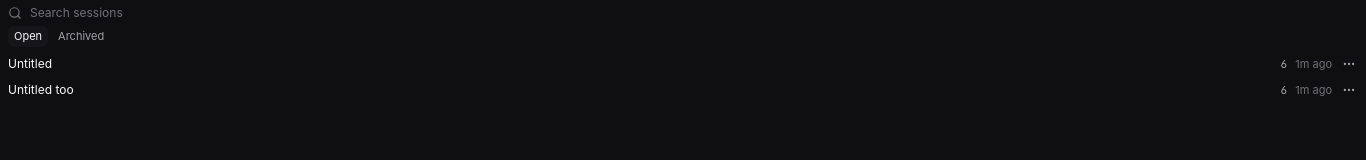
Test: Feature: zoc-agent-chat-rebuild, task 22.5: the Session list › searches message text, not just titles (R15.5)
This screenshot has width=1366, height=160.
Type "token helper" into the field with placeholder "Search sessions".
click(694, 13); type("token helper")  # box x1=30 y1=4 x2=1358 y2=22
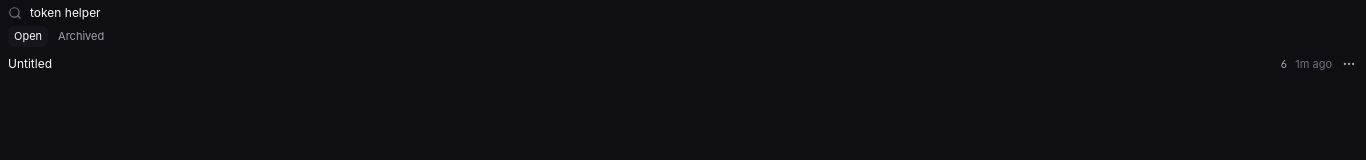
Expected: the list item "Untitled 6 1m ago" is shown, x1=0 y1=50 x2=1365 y2=76
Clearing restores the list rather than emptying it.
Clear the field named "Search sessions" at point(694, 13), box x1=30 y1=4 x2=1358 y2=22
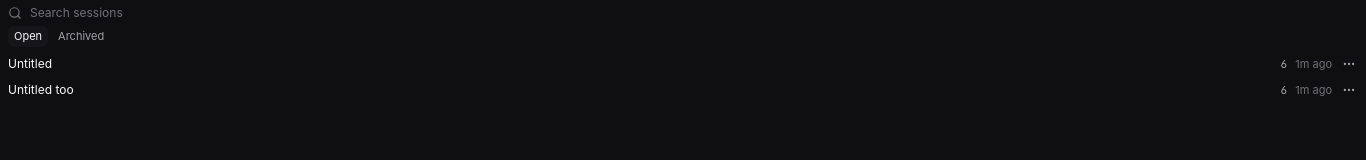
Result: the list item "Untitled too 6 1m ago" is shown at x1=0 y1=76 x2=1365 y2=102
